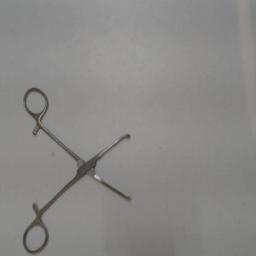Allis Tissue Forceps: (19, 84, 137, 256)
